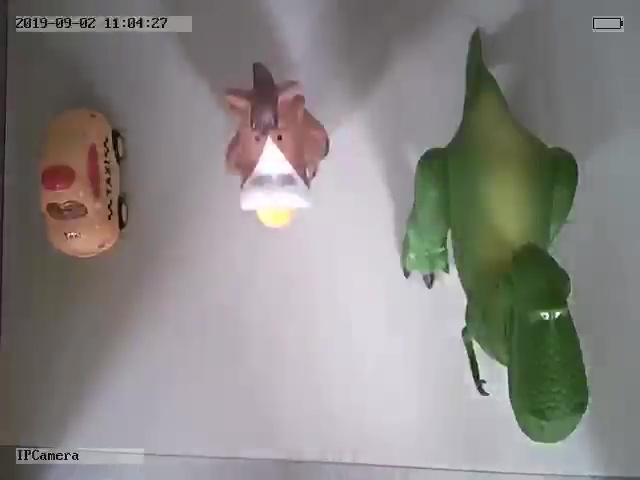car: (38, 108, 129, 255)
horse: (220, 61, 331, 231)
rex: (399, 37, 592, 442)
